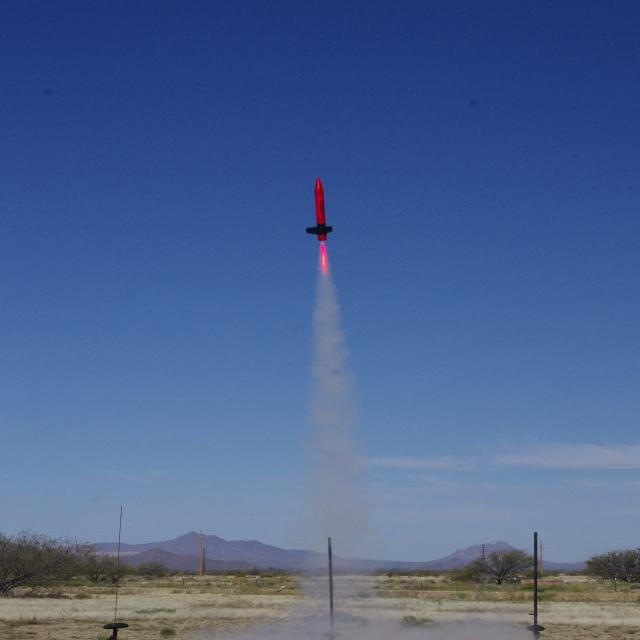Rocket: (302, 176, 334, 242)
